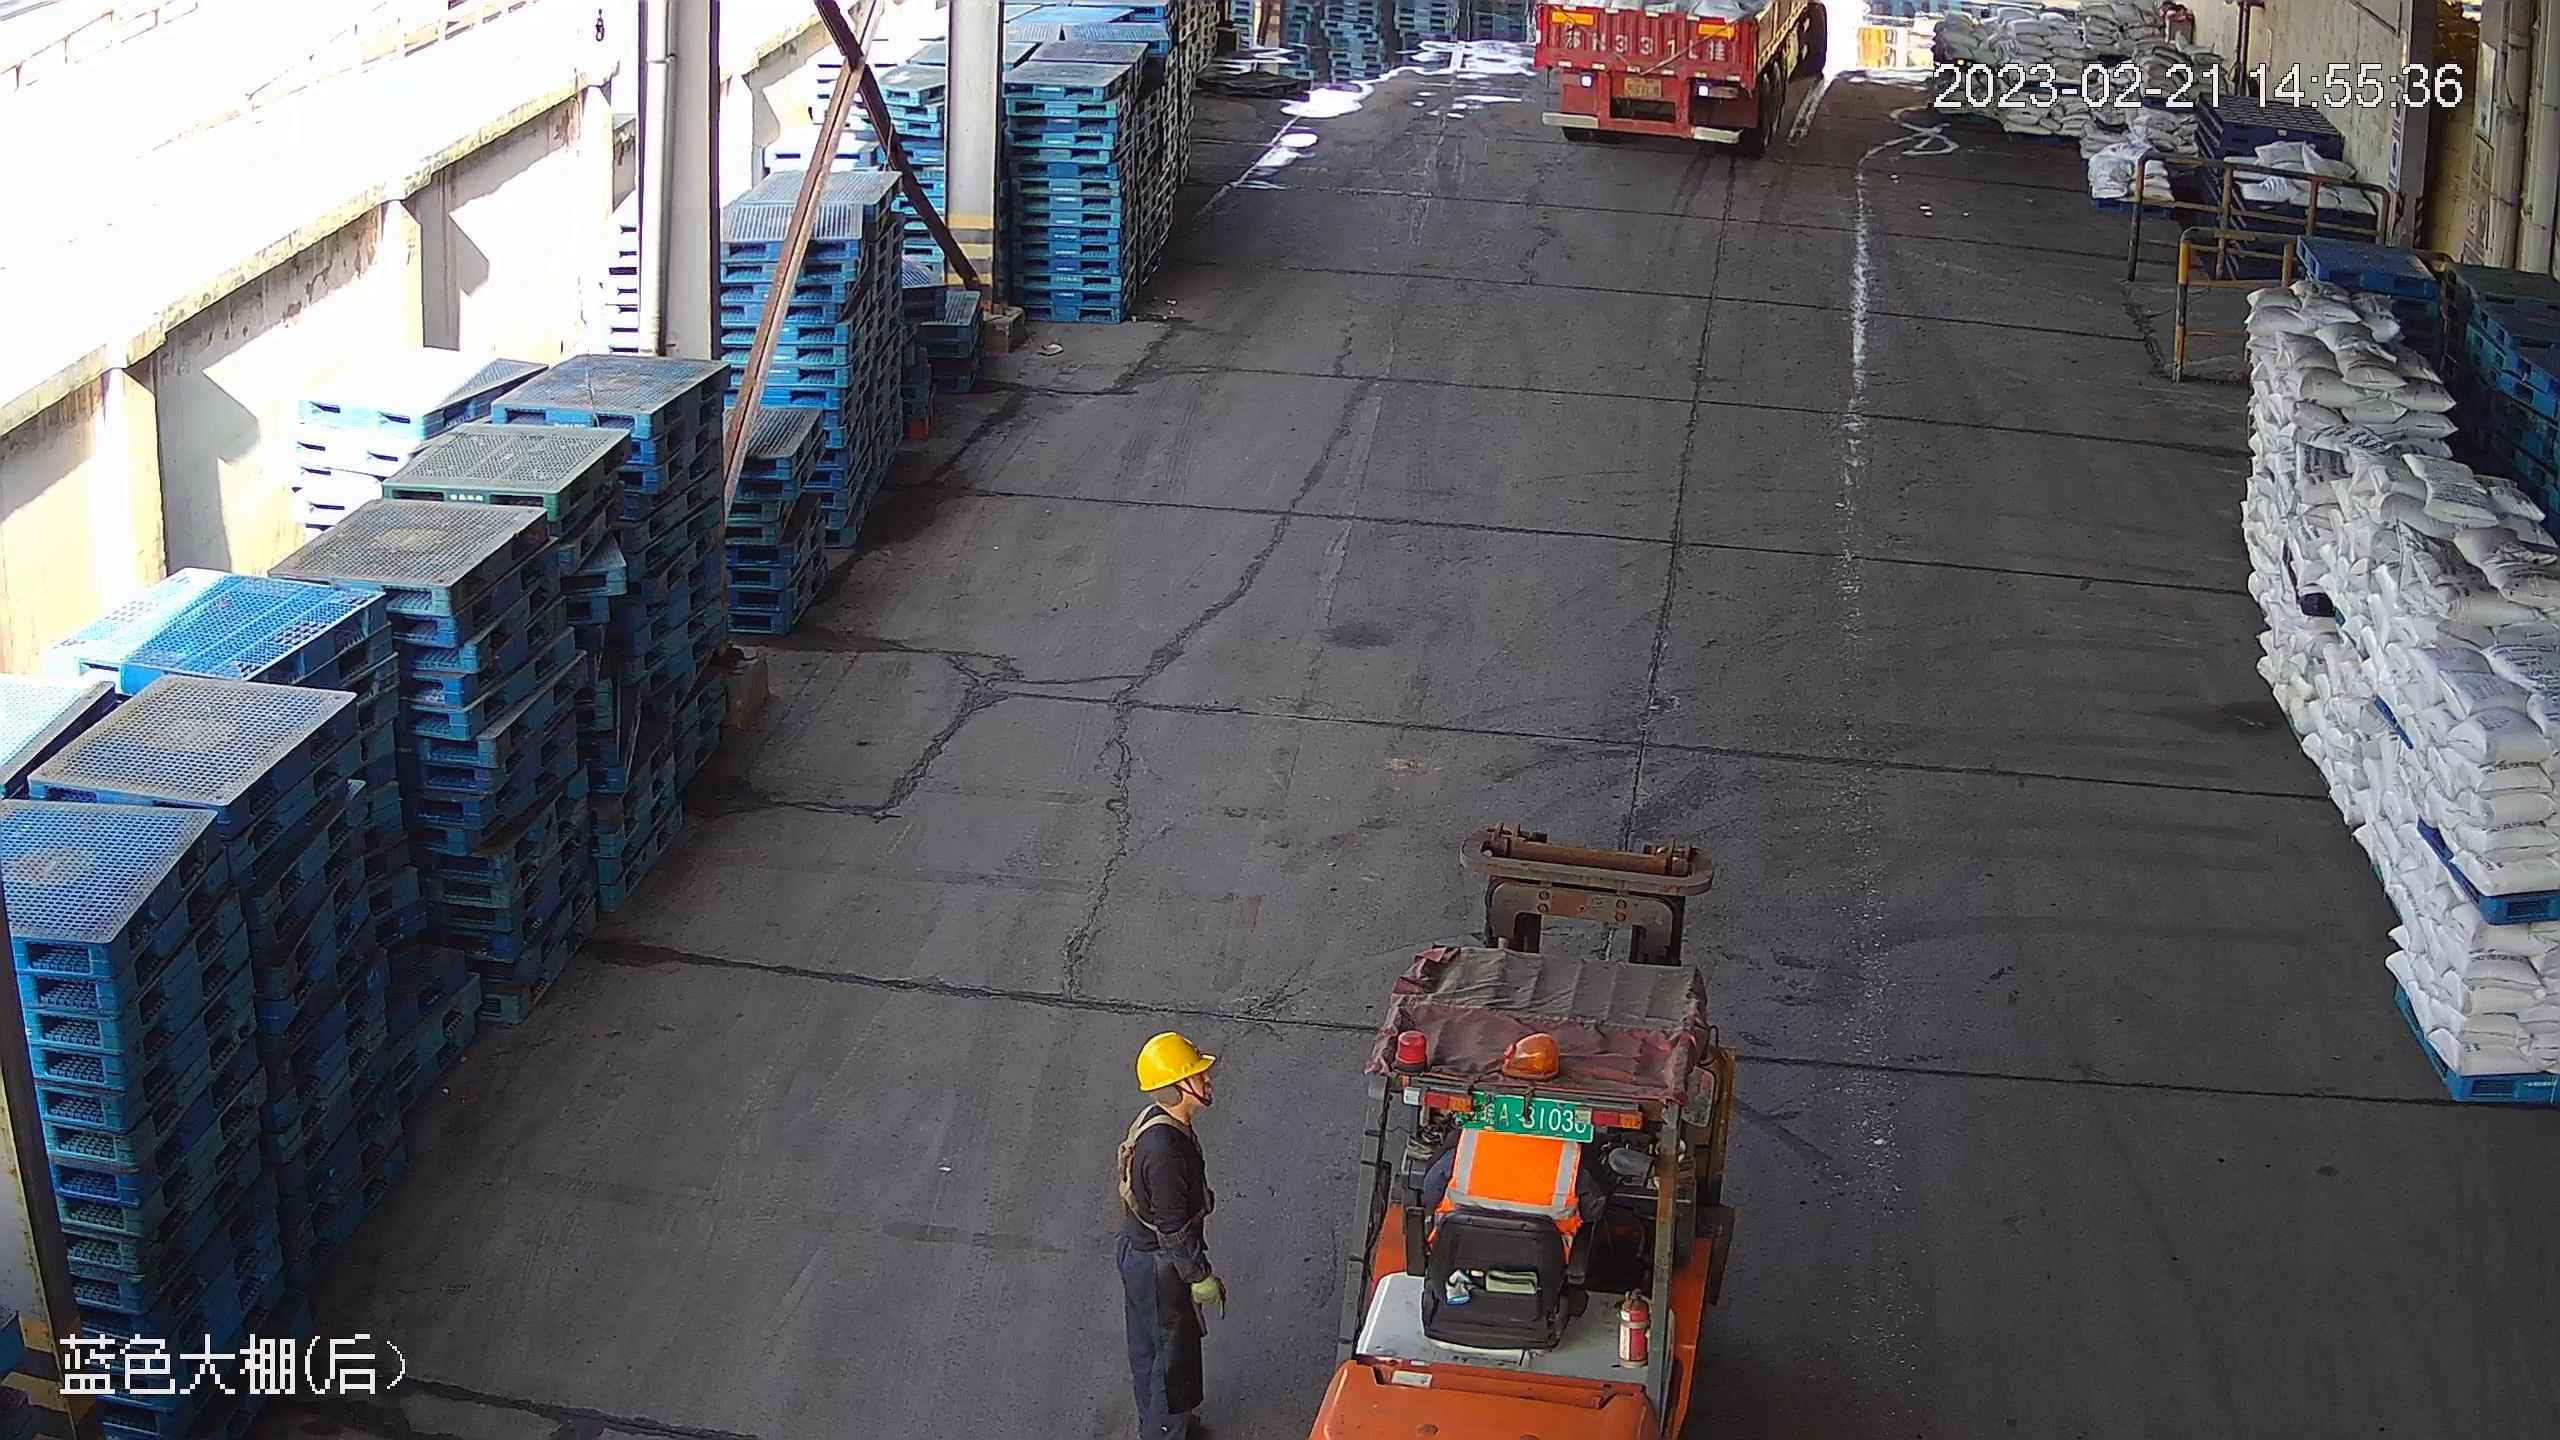belt: (1114, 1103, 1194, 1230)
head: (1114, 1032, 1228, 1170)
helmet: (1137, 1032, 1216, 1092)
people: (1114, 1032, 1227, 1440)
truck: (1531, 1, 1829, 157)
